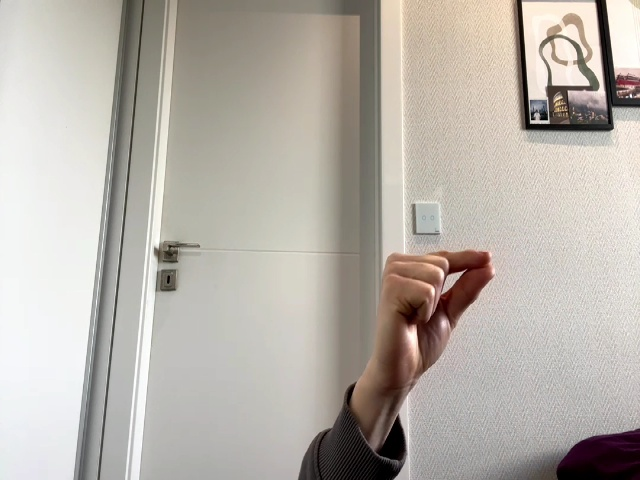P: (372, 250, 495, 393)
